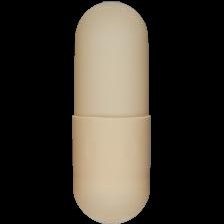54868-6139: (0, 0, 224, 224)
